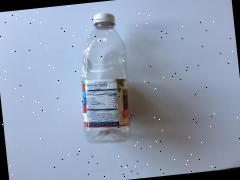plastic: (51, 0, 171, 156)
